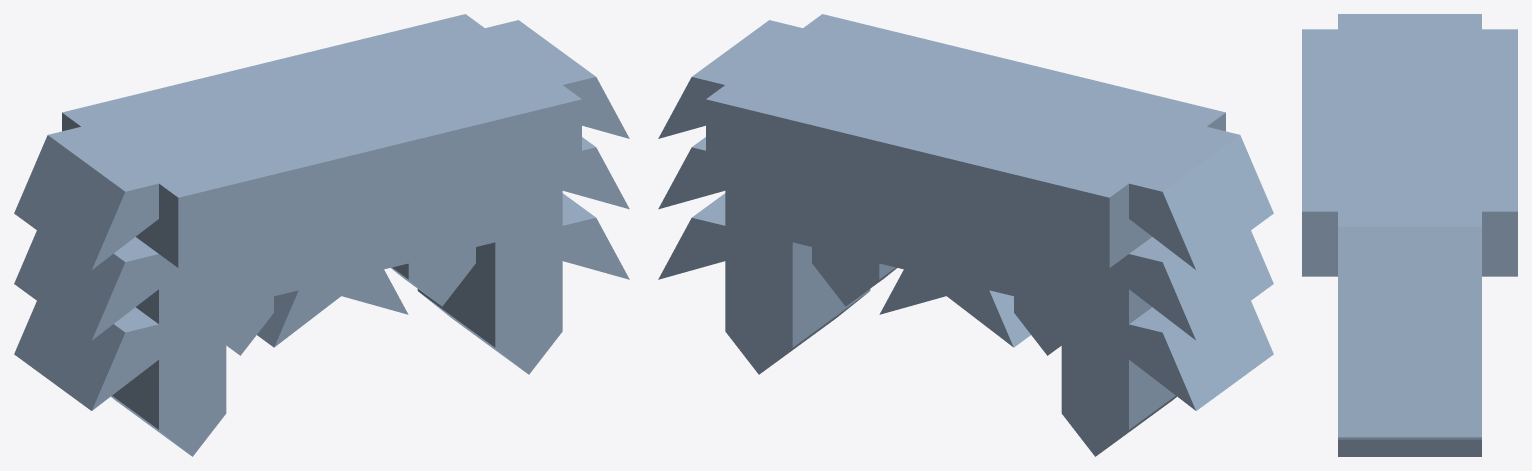
The model's file is doomHunterSled.glb.
3 renders of one model, left to right at view 1: azimuth 30°, elevation 25°; view 2: azimuth 150°, elevation 25°; view 3: azimuth 270°, elevation 25°, orthographic. The views are drawn at different scales.
Parts seen in each view (by area): view 1: generated(Clone); view 2: generated(Clone); view 3: generated(Clone).
Part boxes in pixels (x1,y1,x2,y2): generated(Clone): [14, 14, 629, 456]; generated(Clone): [658, 14, 1273, 456]; generated(Clone): [1302, 14, 1517, 456].
Size of the model in its own units: 8 by 4 by 3.
